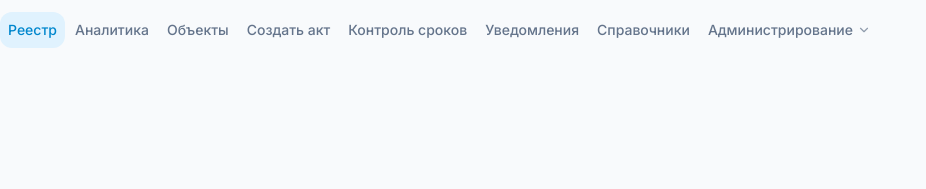
AppNav presentation › keeps administration pages in a dropdown for desktop ADMIN
The image size is (926, 189).
Expected: the link "Контроль сроков" is shown, [348,21,467,38]
Expected: the link "Пользователи" is not shown
Click the button "Администрирование": (789, 30) [700,12,879,48]
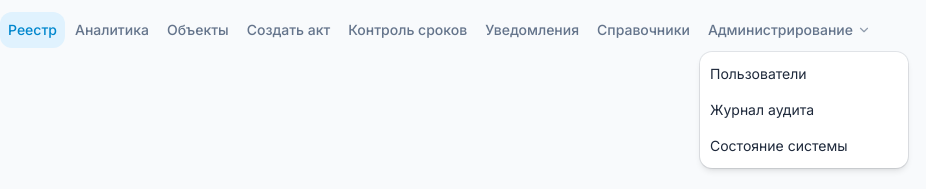
Now the menu item "Пользователи" is shown, box [710,65,806,82]
Now the menu item "Журнал аудита" is shown, box [710,101,814,118]
Now the menu item "Состояние системы" is shown, box [710,137,848,154]
